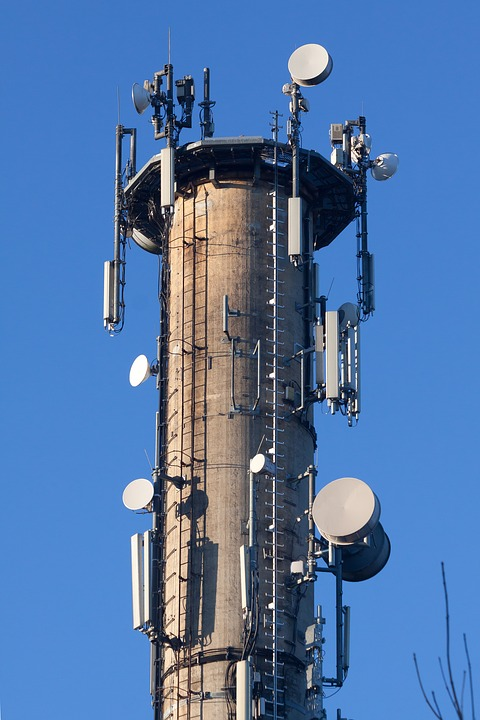a: (142, 529, 158, 632), (325, 312, 341, 407), (286, 198, 307, 265), (131, 533, 145, 632), (104, 256, 120, 334), (239, 542, 255, 616), (237, 658, 255, 720), (353, 321, 363, 415), (161, 147, 174, 212), (347, 323, 355, 419)
b: (309, 477, 382, 544), (324, 536, 389, 580), (287, 44, 334, 89), (121, 480, 152, 511), (372, 152, 401, 181), (130, 85, 155, 112), (129, 355, 147, 384), (247, 458, 273, 475)
